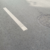zebra: (1, 1, 39, 50)
